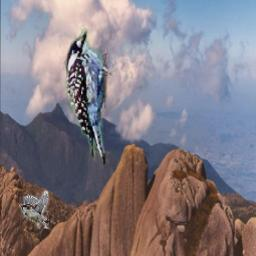Sparrow: (19, 190, 49, 229)
Woodpecker: (59, 24, 119, 174)
